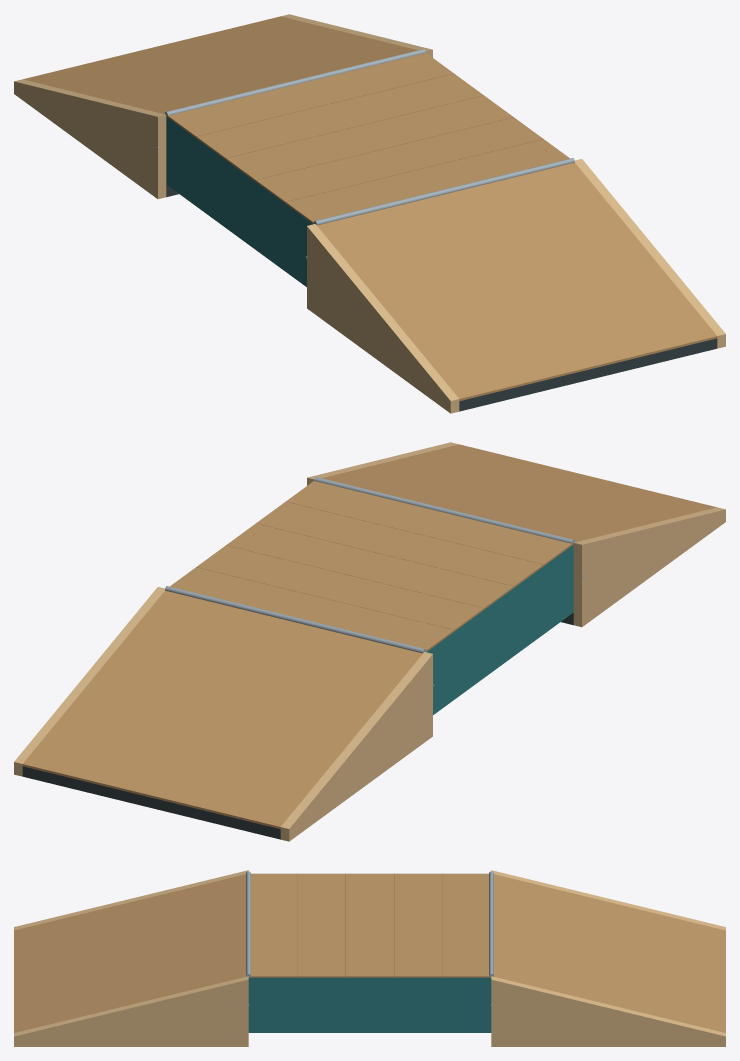
File: skate_funbox.glb
3 renders of one model, top to bottom at view 1: azimuth 30°, elevation 25°; view 2: azimuth 150°, elevation 25°; view 3: azimuth 270°, elevation 25°, orthographic. The views are drawn at different scales.
Parts seen in each view (by area): view 1: VISUAL__bank_ride.001, VISUAL__top, VISUAL__bank_ride, VISUAL__core, VISUAL__bank_sides_left.001, VISUAL__bank_sides_left, VISUAL__bank.001, VISUAL__bank_sides_right.001, VISUAL__deck_edge.001, VISUAL__deck_edge, VISUAL__bank_sides_right; view 2: VISUAL__bank_ride, VISUAL__top, VISUAL__bank_ride.001, VISUAL__core, VISUAL__bank_sides_left, VISUAL__bank_sides_left.001, VISUAL__bank, VISUAL__bank_sides_right, VISUAL__deck_edge, VISUAL__deck_edge.001, VISUAL__bank_sides_right.001; view 3: VISUAL__top, VISUAL__bank_ride, VISUAL__bank_ride.001, VISUAL__core, VISUAL__bank_sides_right, VISUAL__bank_sides_right.001, VISUAL__bank_sides_left, VISUAL__bank_sides_left.001, VISUAL__deck_edge.001, VISUAL__deck_edge.
Boxes of the visible parts, x1,y1,x2,y2 form: VISUAL__bank_ride.001: [317, 162, 717, 401]; VISUAL__top: [166, 53, 569, 224]; VISUAL__bank_ride: [23, 16, 417, 114]; VISUAL__core: [166, 116, 312, 286]; VISUAL__bank_sides_left.001: [307, 224, 459, 413]; VISUAL__bank_sides_left: [14, 79, 166, 199]; VISUAL__bank.001: [459, 338, 717, 411]; VISUAL__bank_sides_right.001: [575, 159, 725, 348]; VISUAL__deck_edge.001: [314, 158, 574, 225]; VISUAL__deck_edge: [165, 49, 425, 115]; VISUAL__bank_sides_right: [281, 14, 432, 57]; VISUAL__bank_ride: [22, 590, 422, 829]; VISUAL__top: [170, 481, 573, 652]; VISUAL__bank_ride.001: [322, 444, 716, 542]; VISUAL__core: [427, 544, 573, 714]; VISUAL__bank_sides_left: [280, 652, 432, 841]; VISUAL__bank_sides_left.001: [573, 507, 725, 627]; VISUAL__bank: [22, 766, 280, 839]; VISUAL__bank_sides_right: [14, 587, 164, 776]; VISUAL__deck_edge: [165, 586, 425, 653]; VISUAL__deck_edge.001: [314, 477, 574, 543]; VISUAL__bank_sides_right.001: [307, 442, 458, 485]; VISUAL__top: [250, 873, 490, 977]; VISUAL__bank_ride: [494, 874, 725, 1032]; VISUAL__bank_ride.001: [14, 874, 245, 1032]; VISUAL__core: [248, 977, 491, 1032]; VISUAL__bank_sides_right: [491, 976, 725, 1046]; VISUAL__bank_sides_right.001: [14, 976, 248, 1046]; VISUAL__bank_sides_left: [491, 870, 725, 930]; VISUAL__bank_sides_left.001: [14, 870, 248, 930]; VISUAL__deck_edge.001: [246, 871, 250, 977]; VISUAL__deck_edge: [489, 871, 493, 977].
Size of the model in its own units: 3.21 by 0.9465 by 8.8.
